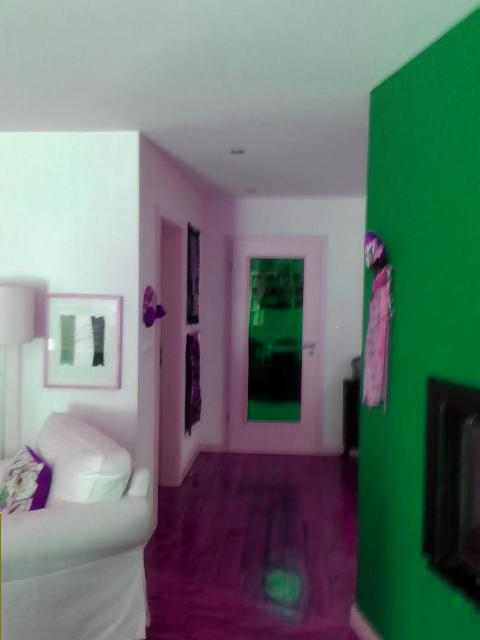closed_door: (220, 234, 326, 455)
